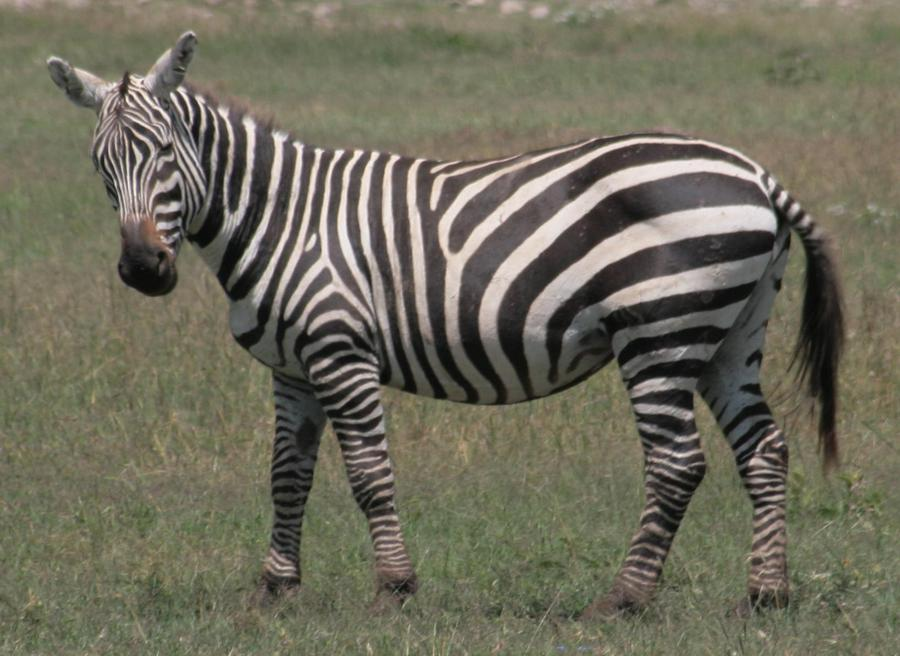zebra_plains: (226, 106, 779, 416)
